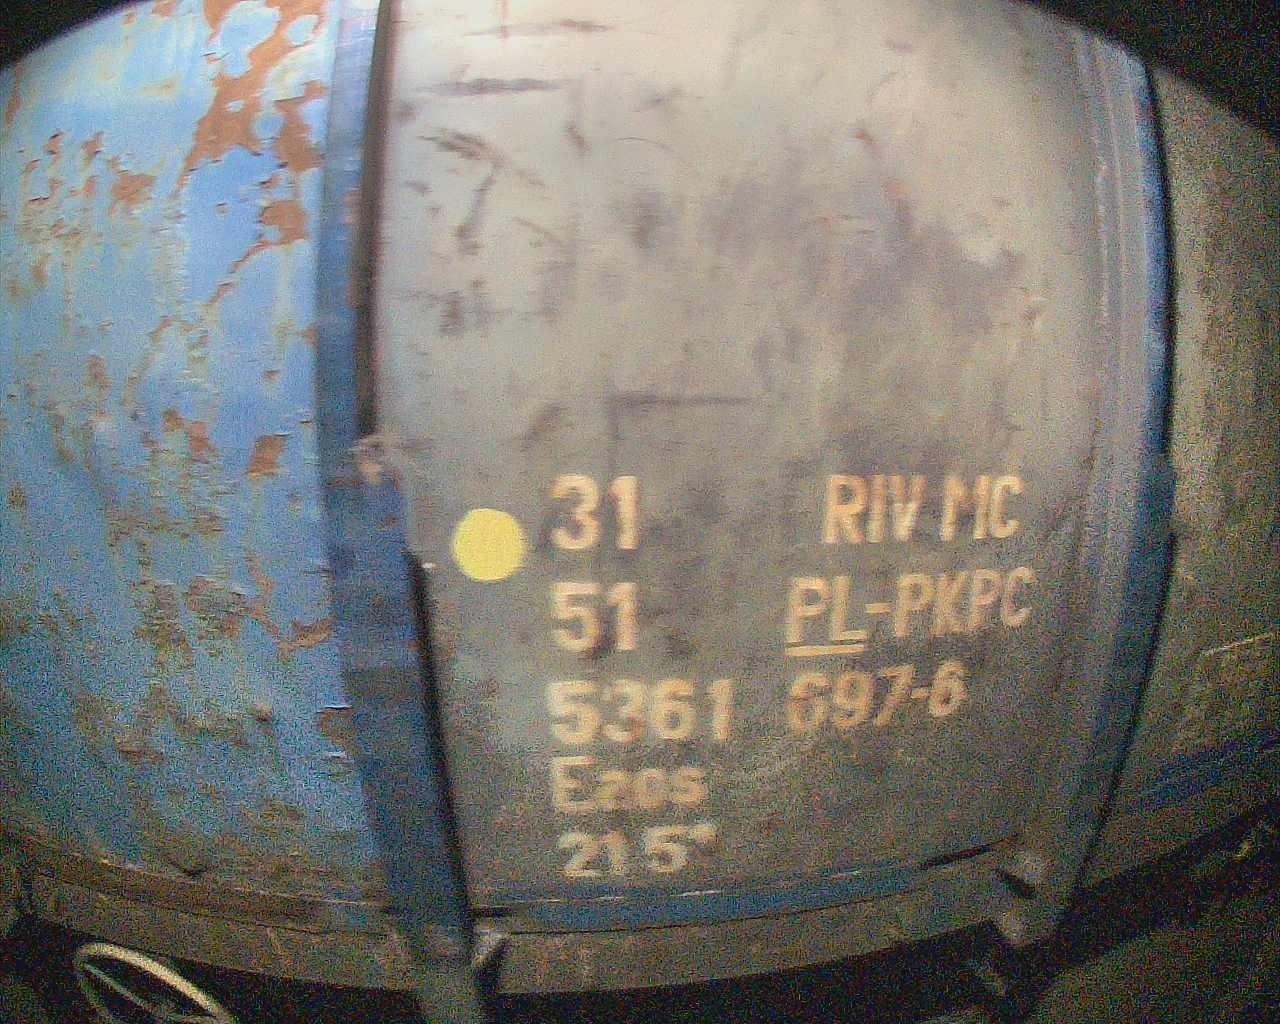UIC: (543, 464, 1037, 880)
